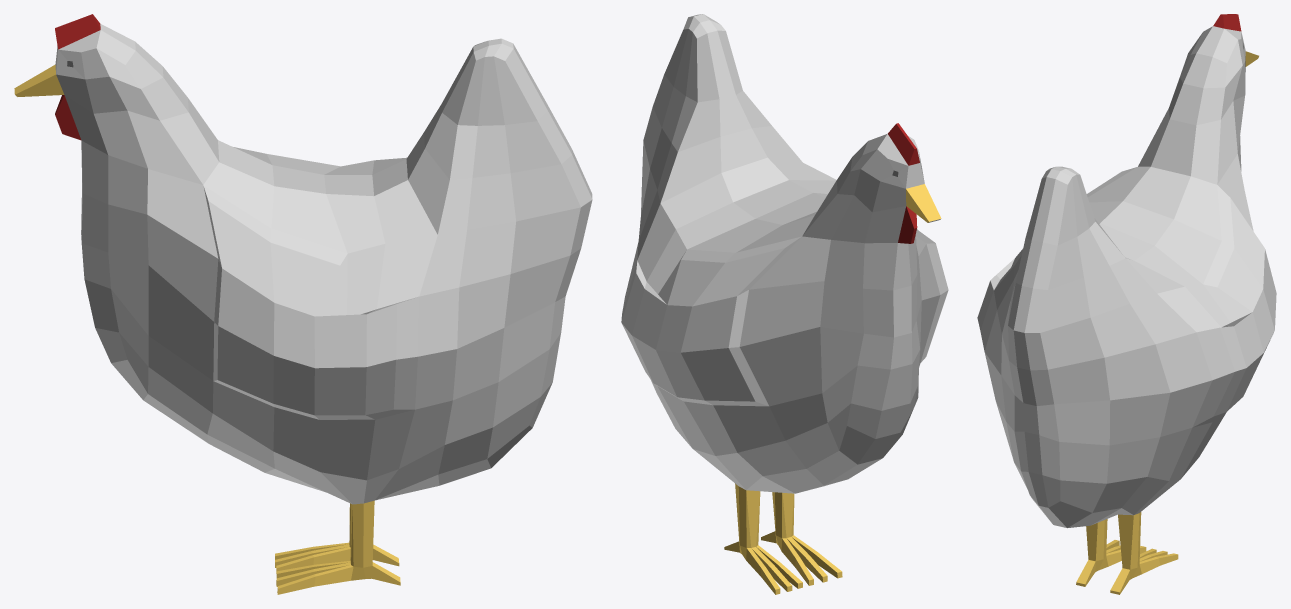
Rendered from chicken.gltf.
3 renders of one model, left to right at view 1: azimuth 30°, elevation 25°; view 2: azimuth 150°, elevation 25°; view 3: azimuth 270°, elevation 25°, orthographic. The views are drawn at different scales.
Parts seen in each view (by area): view 1: Chicken; view 2: Chicken; view 3: Chicken.
Boxes of the visible parts, x1,y1,x2,y2 form: Chicken: (14, 14, 592, 594); Chicken: (621, 14, 948, 594); Chicken: (977, 14, 1276, 594).
Bounding box in the file's own units: 0.3314 × 0.4005 × 0.2264.
